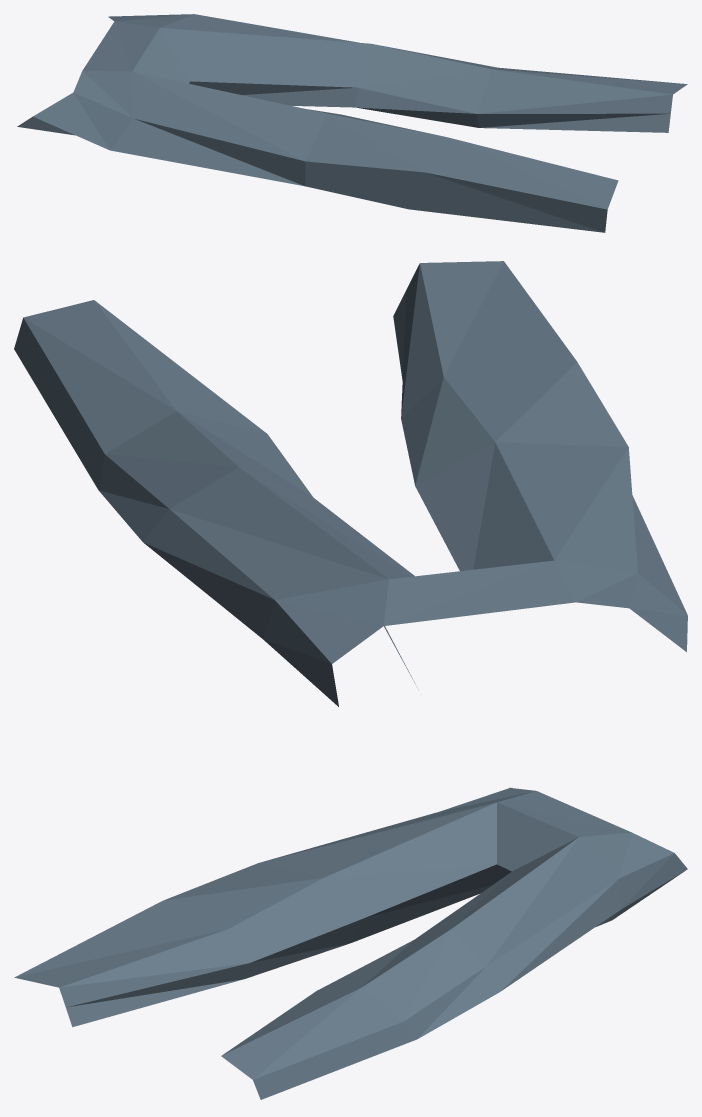
3 views of the same model, one above another, from view 1: azimuth 30°, elevation 25°; view 2: azimuth 150°, elevation 25°; view 3: azimuth 270°, elevation 25° (orthographic). The views are drawn at different scales.
Bounding box in the file's own units: 1.12 × 0.1487 × 1.12.
Materials: 1 (1 with a texture image).
